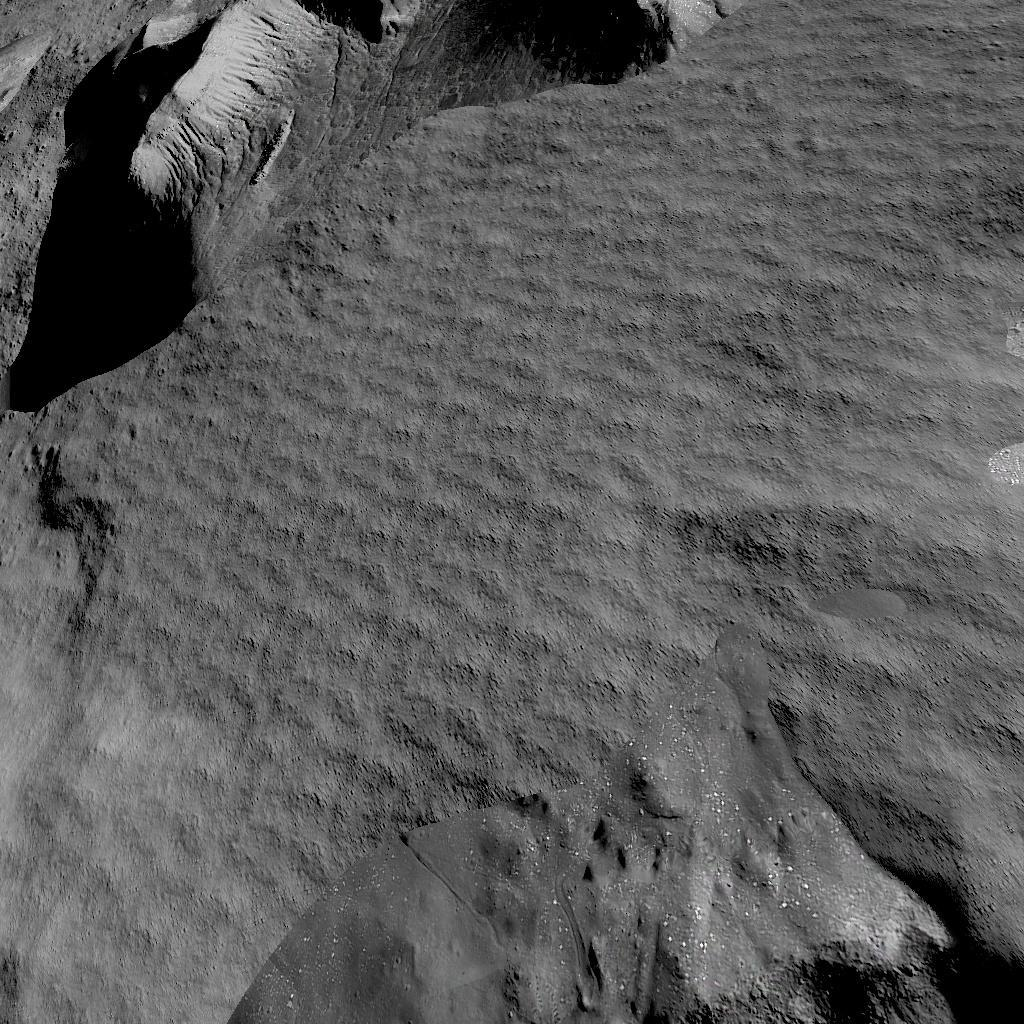Boulders: (0, 0, 737, 420)
Crater: (248, 808, 1024, 1024)
Plan surface: (0, 430, 1024, 795), (751, 0, 1024, 418), (0, 808, 238, 1024)
